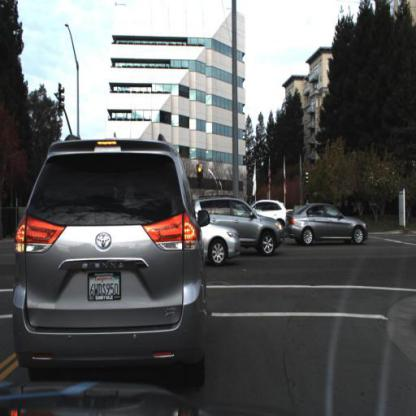car: (10, 135, 211, 380), (195, 194, 286, 258), (286, 202, 370, 248), (188, 208, 242, 267), (148, 209, 183, 242)
trafficLight-Red: (196, 161, 205, 190)
